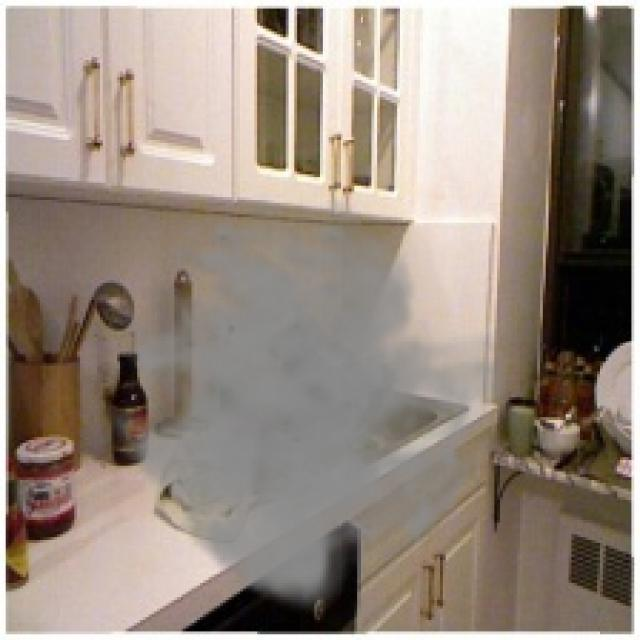smoke: (92, 195, 514, 614)
